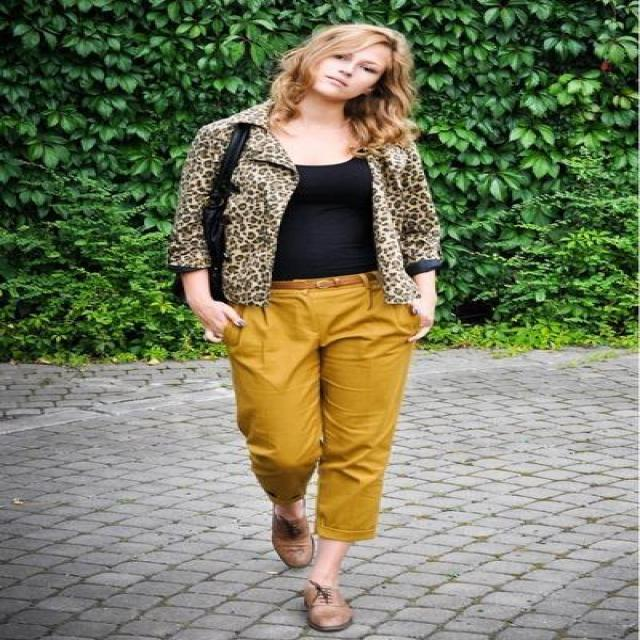bag: (198, 110, 266, 235)
jacket: (157, 99, 466, 316)
pants: (224, 269, 438, 543)
shirt: (270, 156, 390, 280)
shoe: (272, 506, 350, 588)
